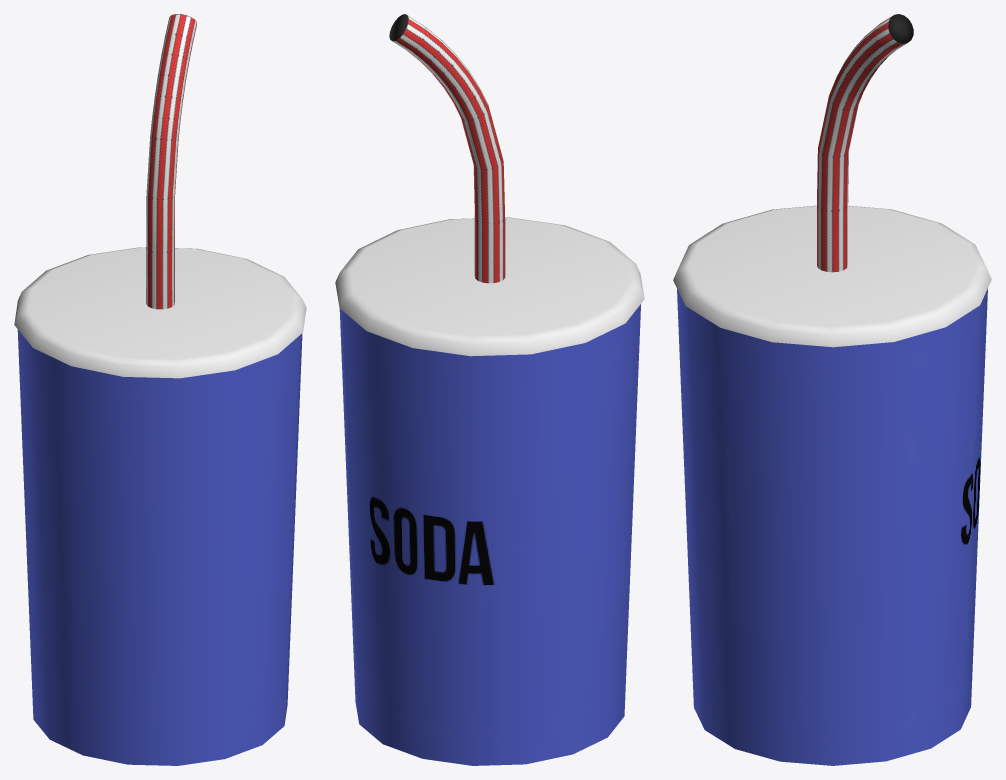
Rendered from drink.fbx.
3 renders of one model, left to right at view 1: azimuth 30°, elevation 25°; view 2: azimuth 150°, elevation 25°; view 3: azimuth 270°, elevation 25°, orthographic. The views are drawn at different scales.
Visible parts, largest first — view 1: polySurface4, polySurface5, pCylinder4; view 2: polySurface4, polySurface5, pCylinder4; view 3: polySurface4, polySurface5, pCylinder4.
Part boxes in pixels (x1,y1,x2,y2): polySurface4: (17,329,302,765); polySurface5: (14,247,306,378); pCylinder4: (146,14,196,309); polySurface4: (339,304,640,765); polySurface5: (335,217,644,356); pCylinder4: (389,14,505,283); polySurface4: (677,288,987,765); polySurface5: (673,205,991,347); pCylinder4: (817,14,913,272).
Bounding box in the file's own units: 7.58 × 18.87 × 7.58.
